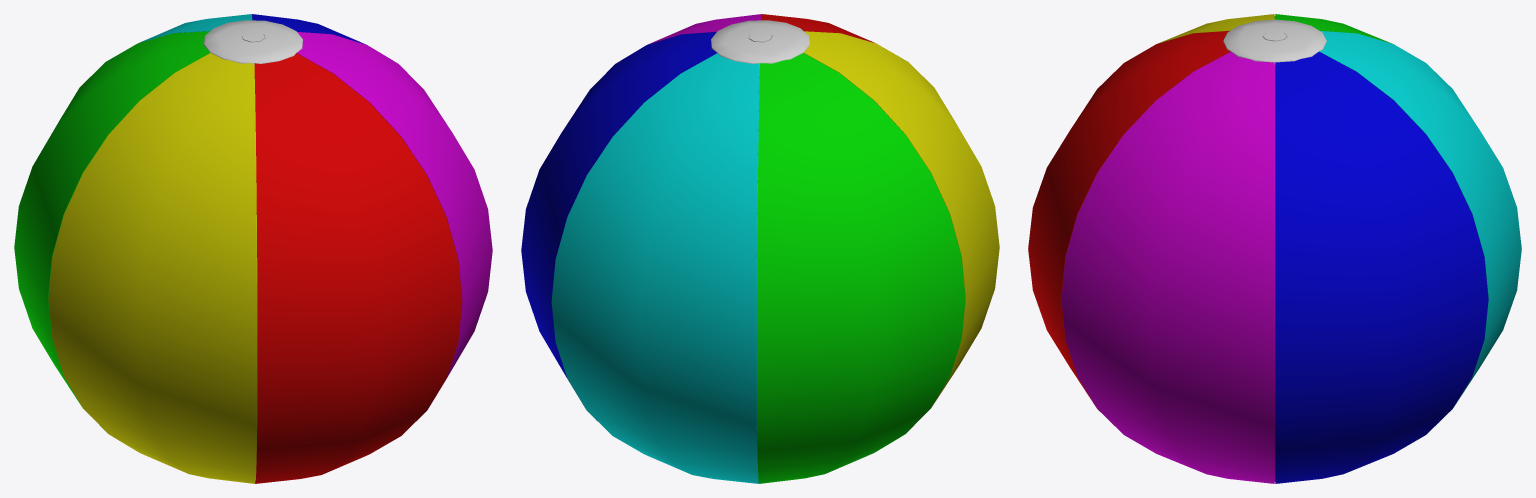
Rendered from 비치발리볼.fbx.
3 renders of one model, left to right at view 1: azimuth 30°, elevation 25°; view 2: azimuth 150°, elevation 25°; view 3: azimuth 270°, elevation 25°, orthographic.
Visible parts, largest first — view 1: g_BeachBall_Sphere_001; view 2: g_BeachBall_Sphere_001; view 3: g_BeachBall_Sphere_001.
Part boxes in pixels (<box>): g_BeachBall_Sphere_001: <box>14,14,492,483</box>; g_BeachBall_Sphere_001: <box>521,14,999,483</box>; g_BeachBall_Sphere_001: <box>1028,14,1521,483</box>.
Bounding box in the file's own units: 41.14 × 40.68 × 42.67.
